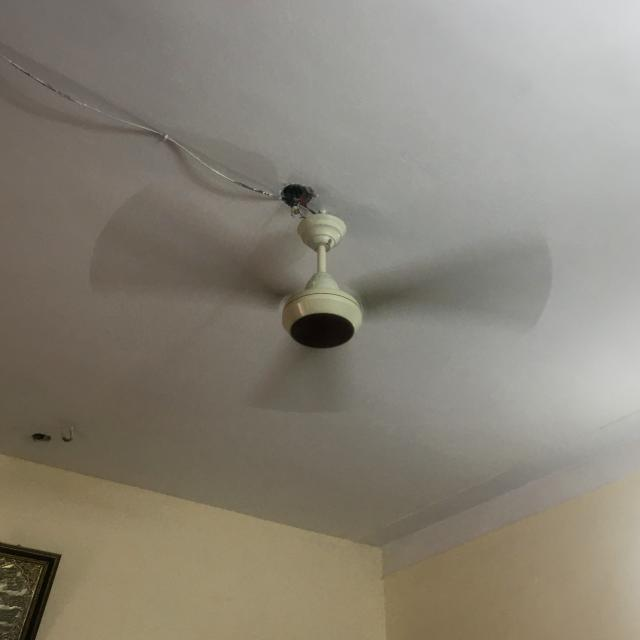on: (72, 178, 561, 425)
